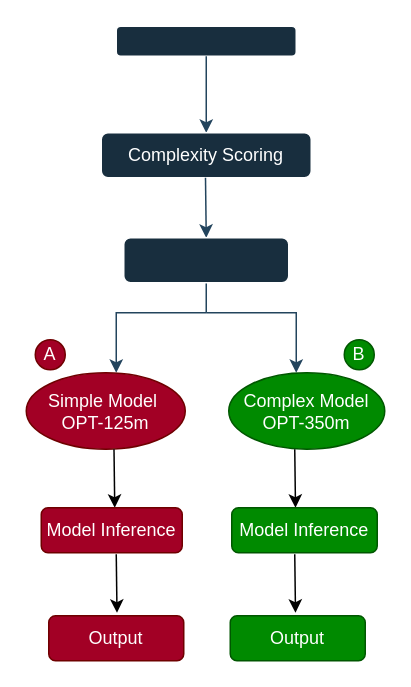
Image size: 411x687. Some labels were removed from this diagram. The centre of each missing label's shape, as x and y in pixels:
"Model Routing" goes at (205,259).
"Prompt" goes at (205,40).
